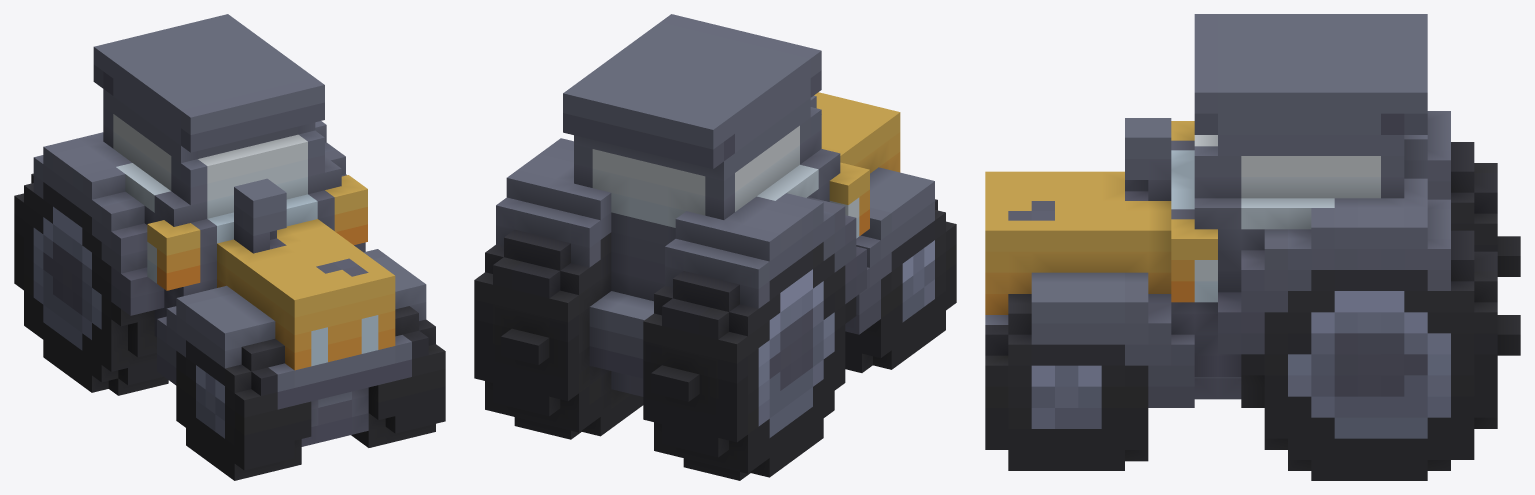
Rendered from tractor.glb.
The picture shows the model from 3 angles, left to right: view 1: azimuth 30°, elevation 25°; view 2: azimuth 150°, elevation 25°; view 3: azimuth 270°, elevation 25°; orthographic projection. The views are drawn at different scales.
Visible parts, largest first — view 1: voxels; view 2: voxels; view 3: voxels.
Boxes of the visible parts, x1,y1,x2,y2 form: voxels: (14,14,445,480); voxels: (474,14,956,480); voxels: (985,14,1520,480).
Bounding box in the file's own units: 1.4 × 1.7 × 2.3.
